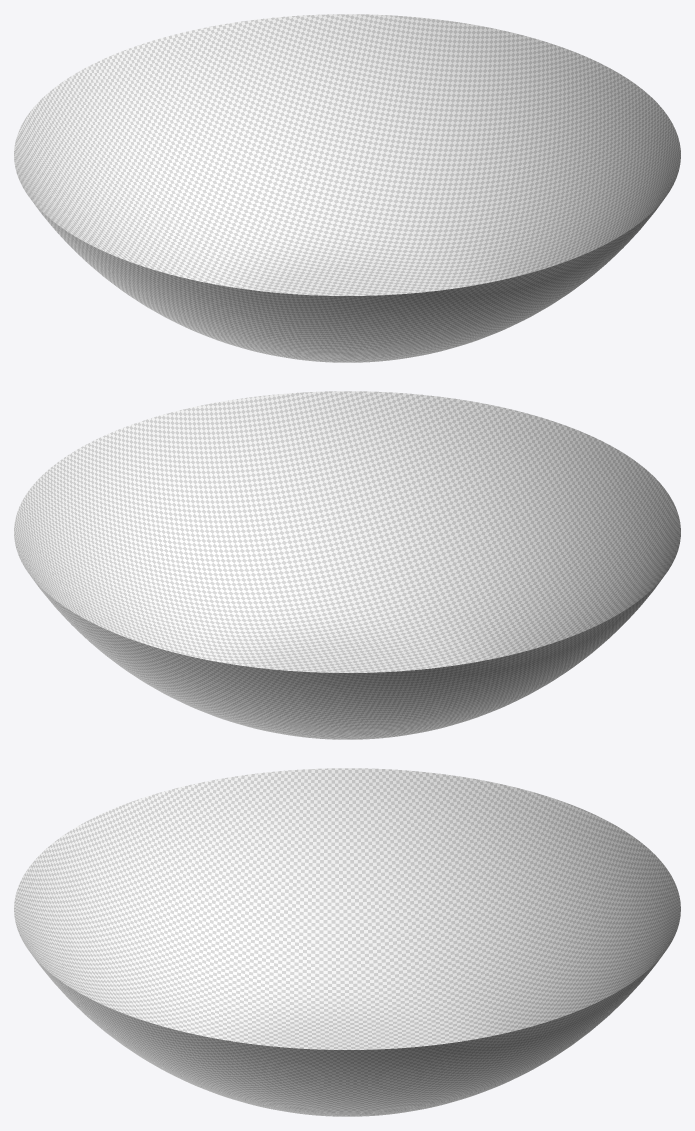
File: GroundBowl.fbx
3 renders of one model, top to bottom at view 1: azimuth 30°, elevation 25°; view 2: azimuth 150°, elevation 25°; view 3: azimuth 270°, elevation 25°, orthographic.
Visible parts, largest first — view 1: Bowl; view 2: Bowl; view 3: Bowl.
Part boxes in pixels (box(x1,y1,x2,y2)): Bowl: box(14, 14, 680, 362); Bowl: box(14, 391, 680, 739); Bowl: box(14, 768, 680, 1116).
Size of the model in its own units: 85.77 by 22.15 by 85.77.
